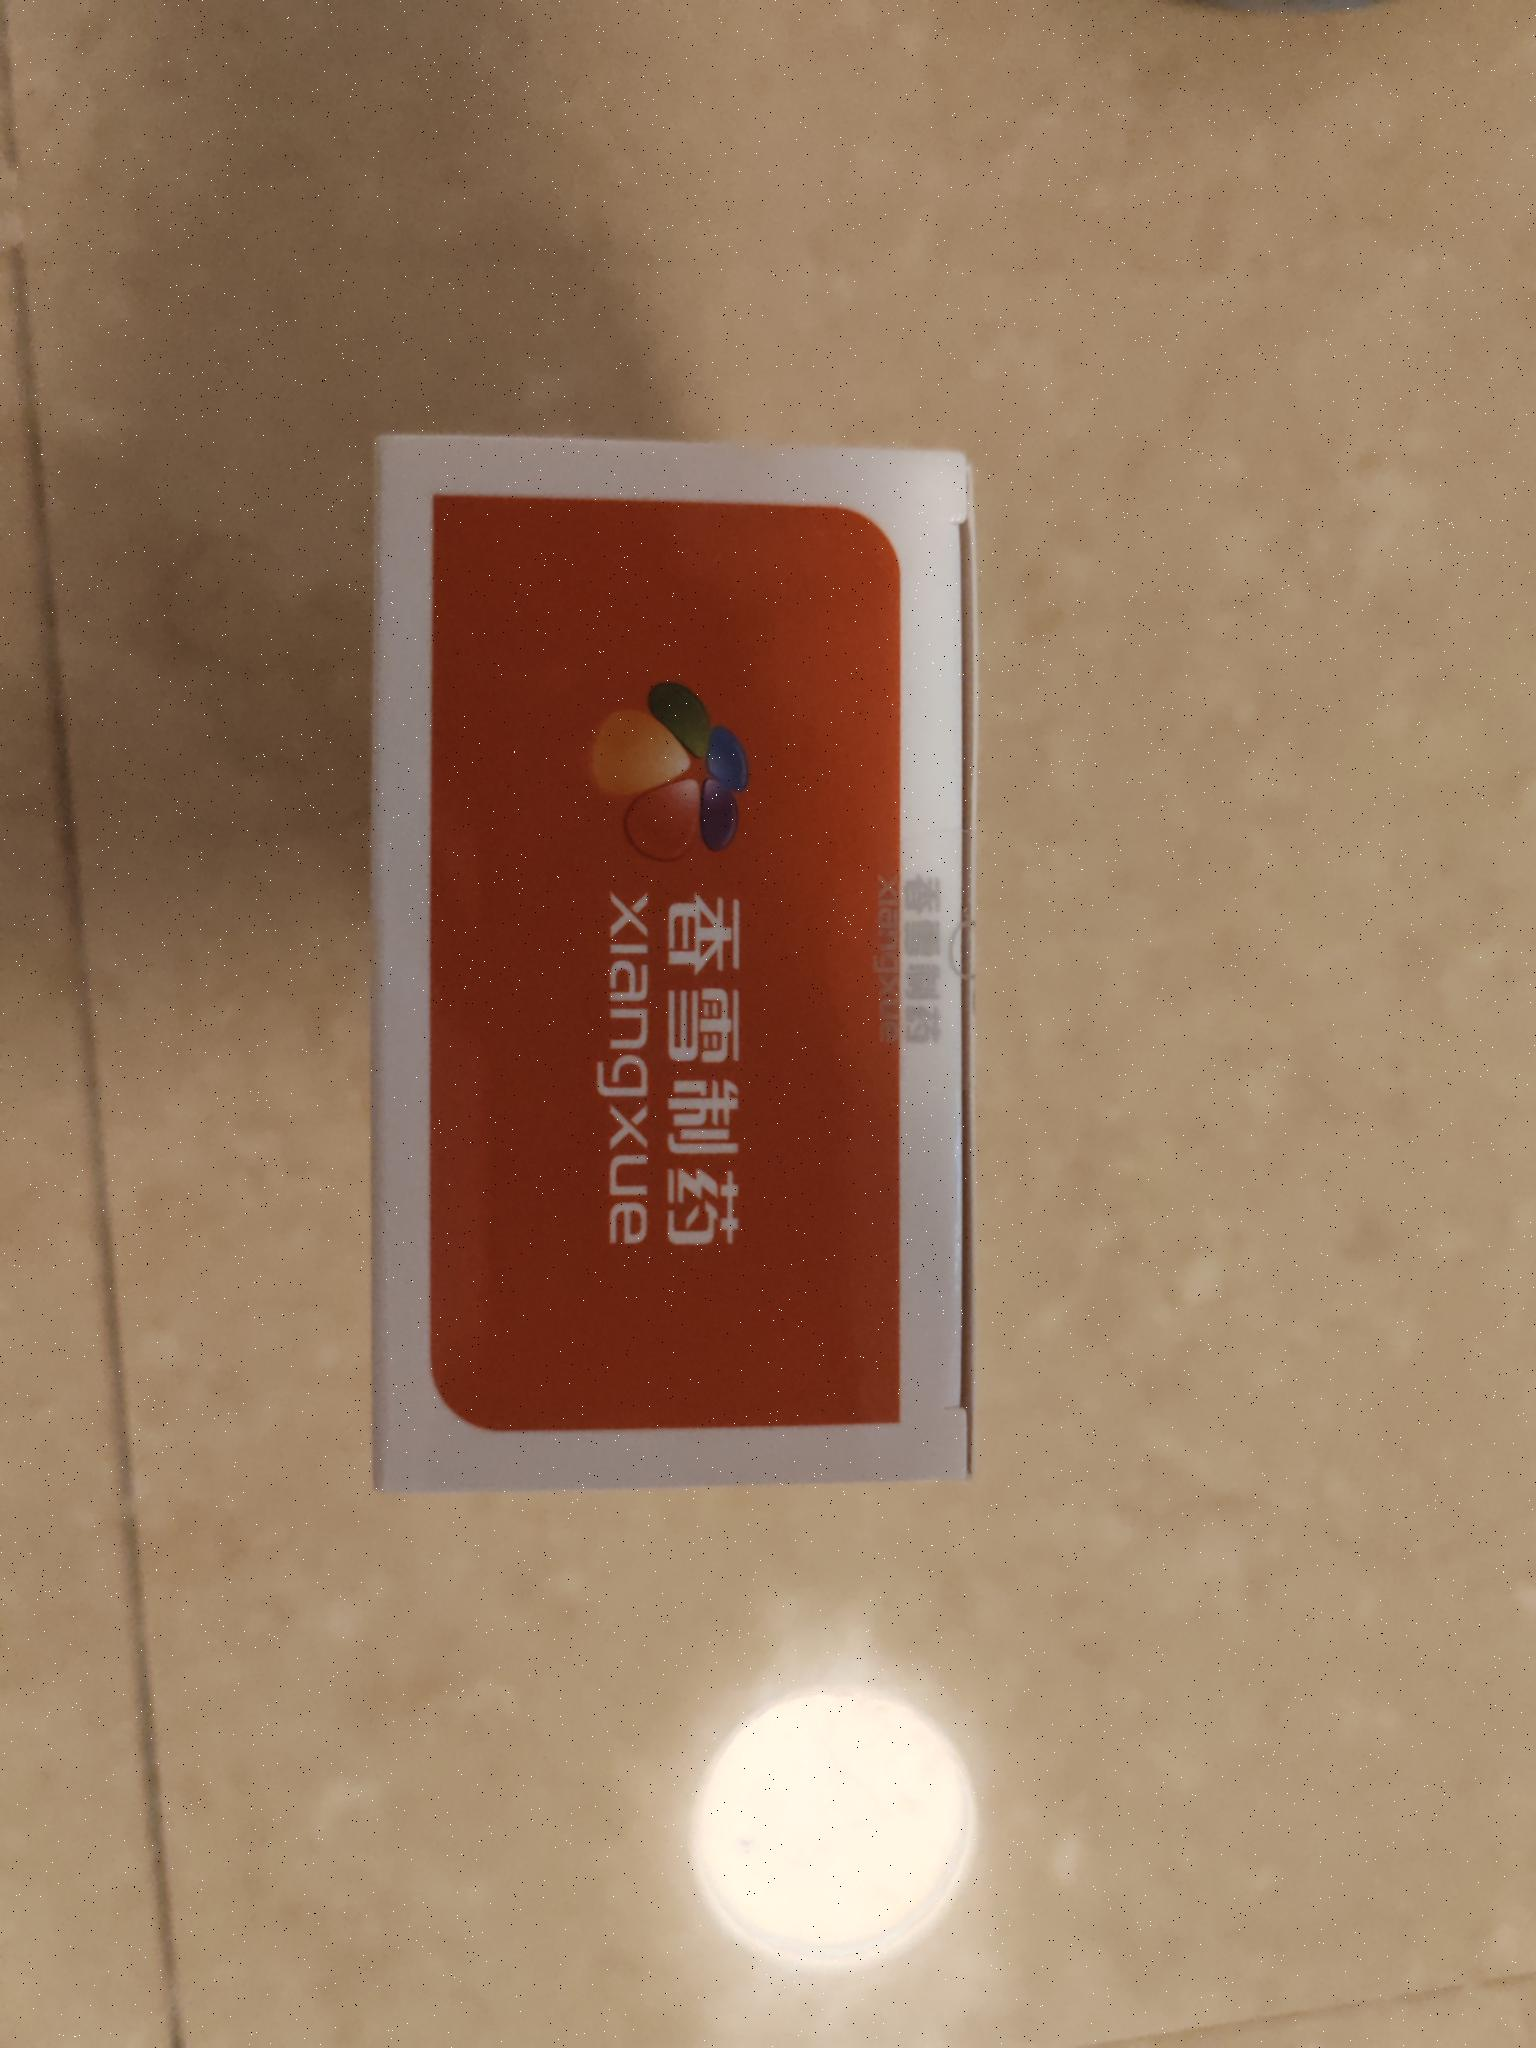Medicine1: (347, 414, 1002, 1527)
